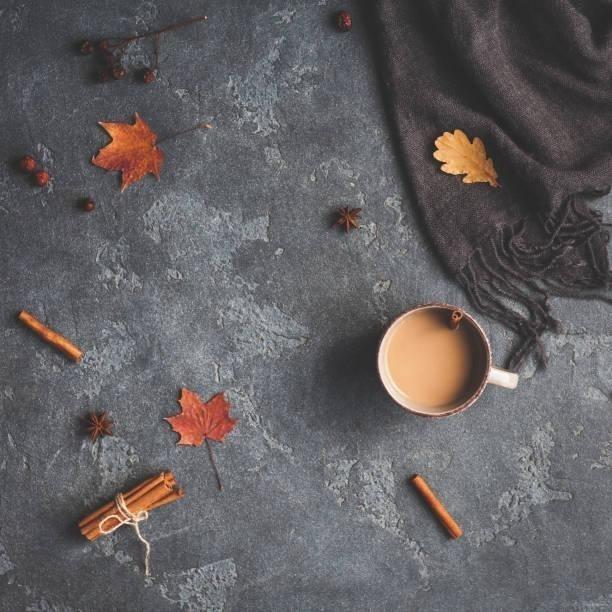cup-handle: (375, 302, 521, 420)
